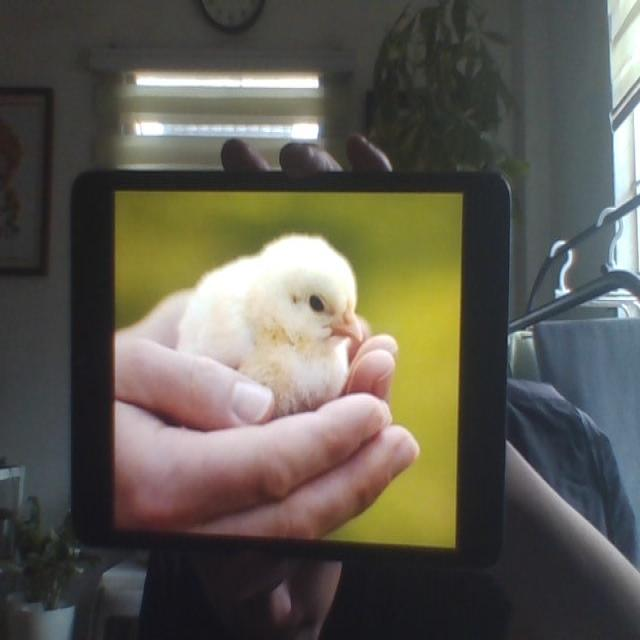Healthy: (170, 232, 364, 417)
